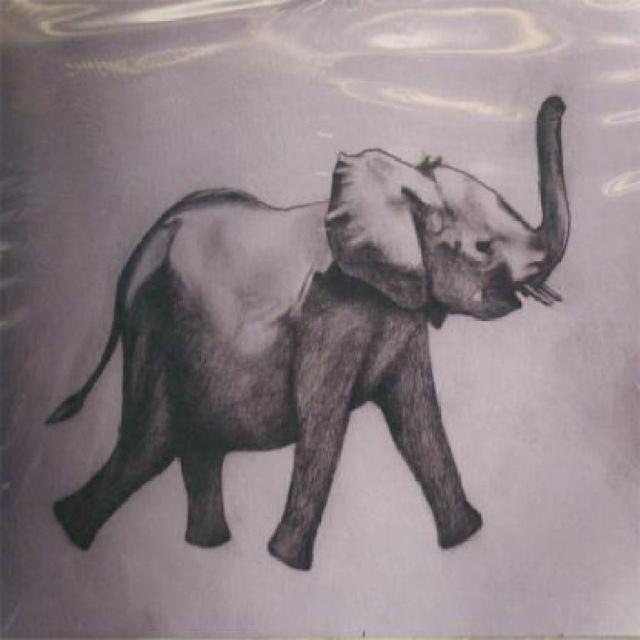Elephant: (45, 91, 570, 572)
